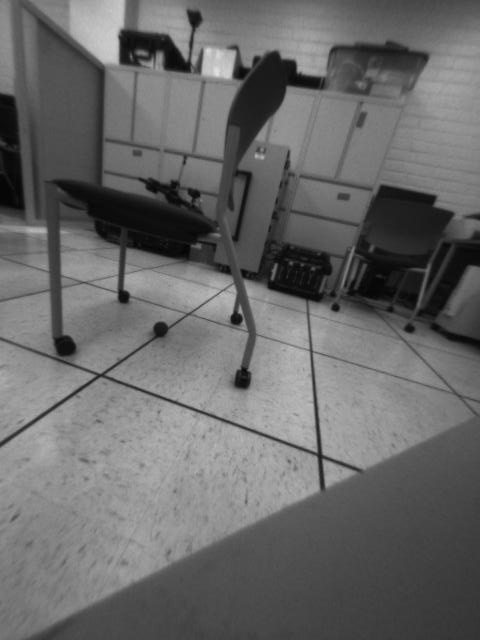dogtoy: (146, 316, 172, 342)
